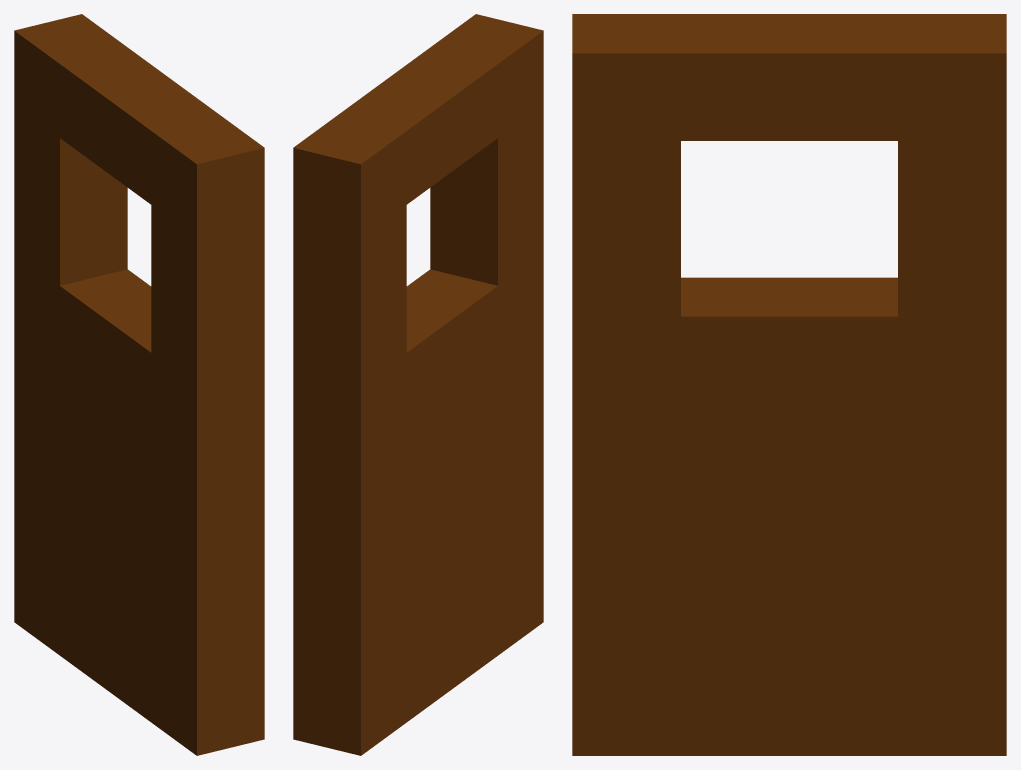
File: dörr.fbx
3 views of the same model, side by side, from view 1: azimuth 30°, elevation 25°; view 2: azimuth 150°, elevation 25°; view 3: azimuth 270°, elevation 25° (orthographic). The views are drawn at different scales.
Visible parts, largest first — view 1: Cube; view 2: Cube; view 3: Cube.
Part boxes in pixels (x1,y1,x2,y2): Cube: (14, 14, 264, 755); Cube: (293, 14, 543, 755); Cube: (572, 14, 1006, 755).
Size of the model in its own units: 30 by 250 by 140.
